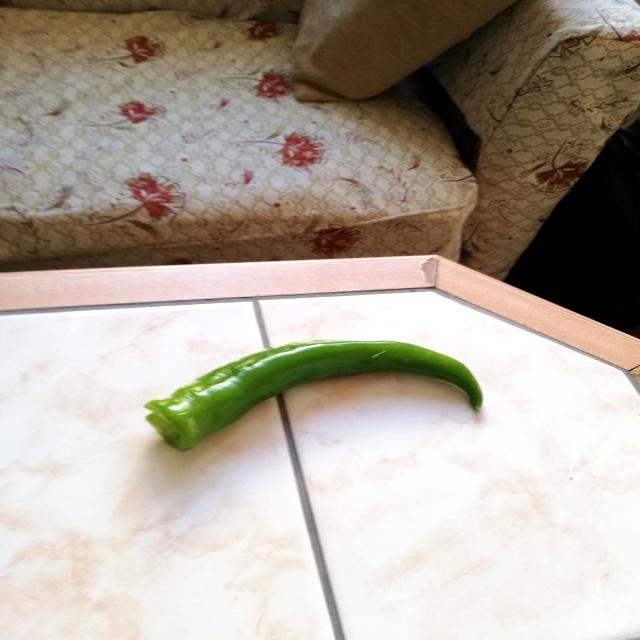green pepper: (139, 326, 493, 455)
